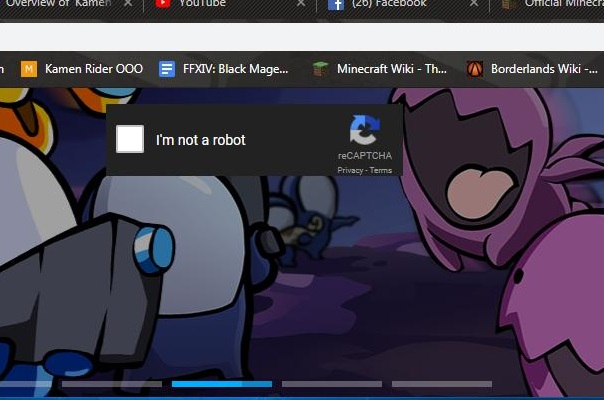captcha: (116, 125, 248, 153)
